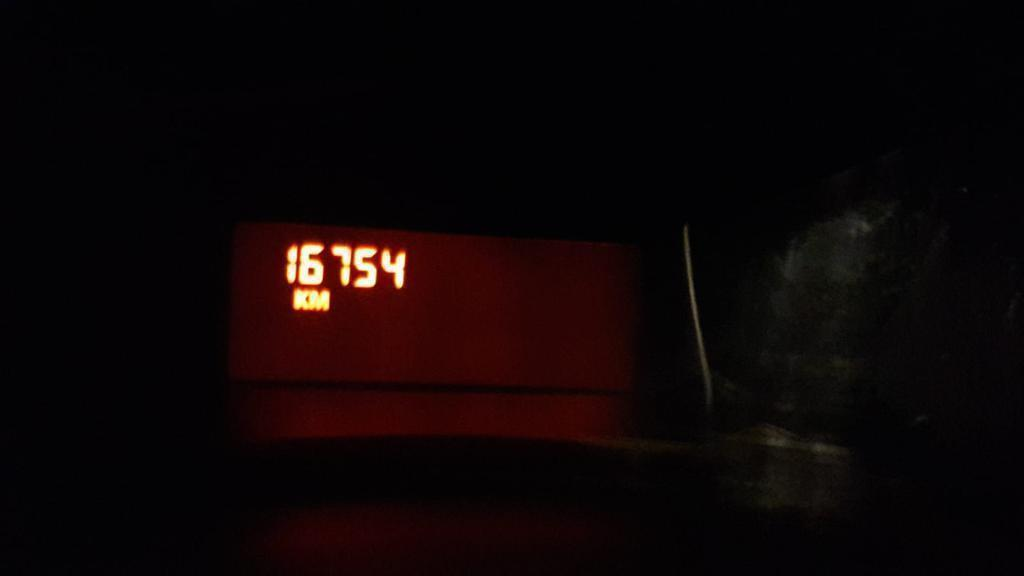1: (285, 240, 297, 284)
4: (378, 245, 406, 288)
5: (352, 245, 376, 289)
6: (300, 240, 324, 285)
7: (328, 241, 350, 286)
X: (308, 288, 331, 312), (292, 286, 308, 312)
odometer: (227, 216, 642, 394)
